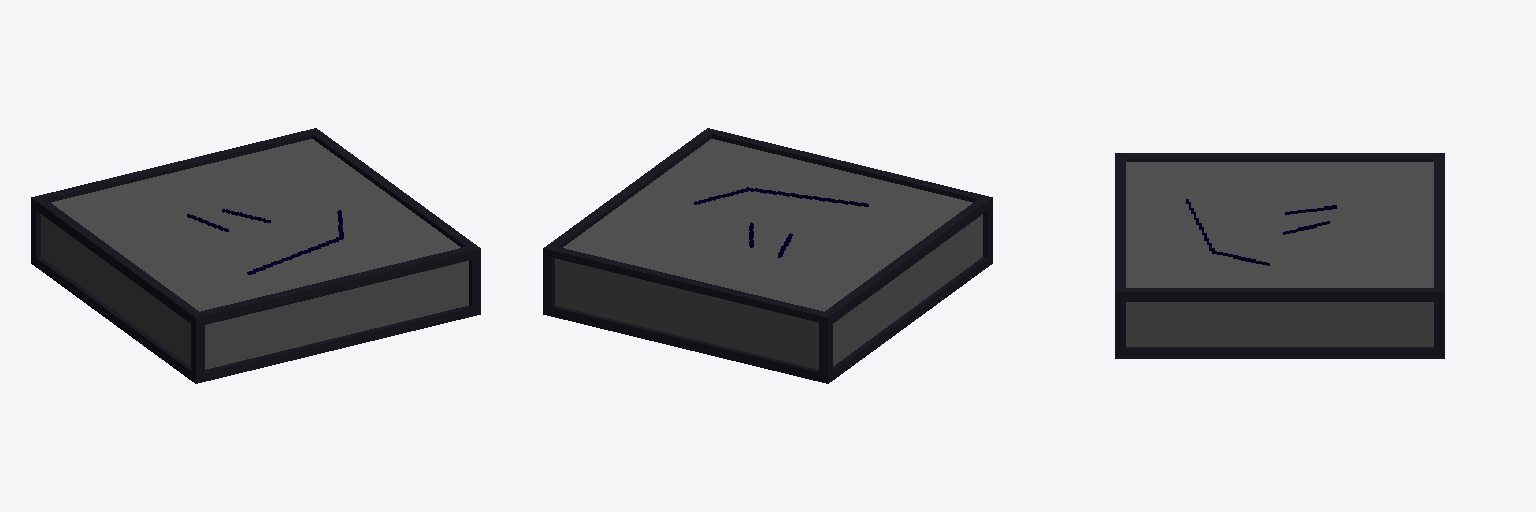
The picture shows the model from 3 angles: view 1: azimuth 30°, elevation 25°; view 2: azimuth 150°, elevation 25°; view 3: azimuth 270°, elevation 25°; orthographic projection.
Visible parts, largest first — view 1: object 1; view 2: object 1; view 3: object 1.
Part boxes in pixels (bbox=[...]): object 1: bbox=[31, 128, 480, 383]; object 1: bbox=[543, 128, 992, 383]; object 1: bbox=[1115, 153, 1444, 358].
Size of the model in its own units: 12.6 by 2.8 by 12.6.
1 materials, 1 textured.